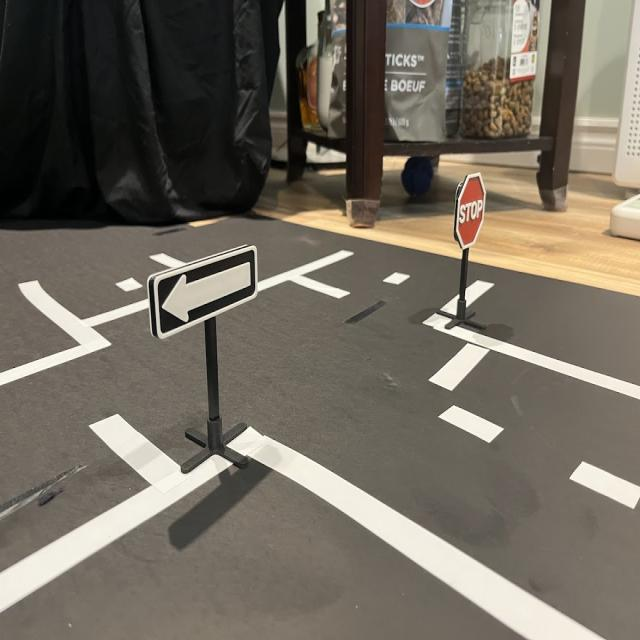sign_oneway_left: (153, 246, 258, 340)
sign_stop: (458, 173, 489, 252)
